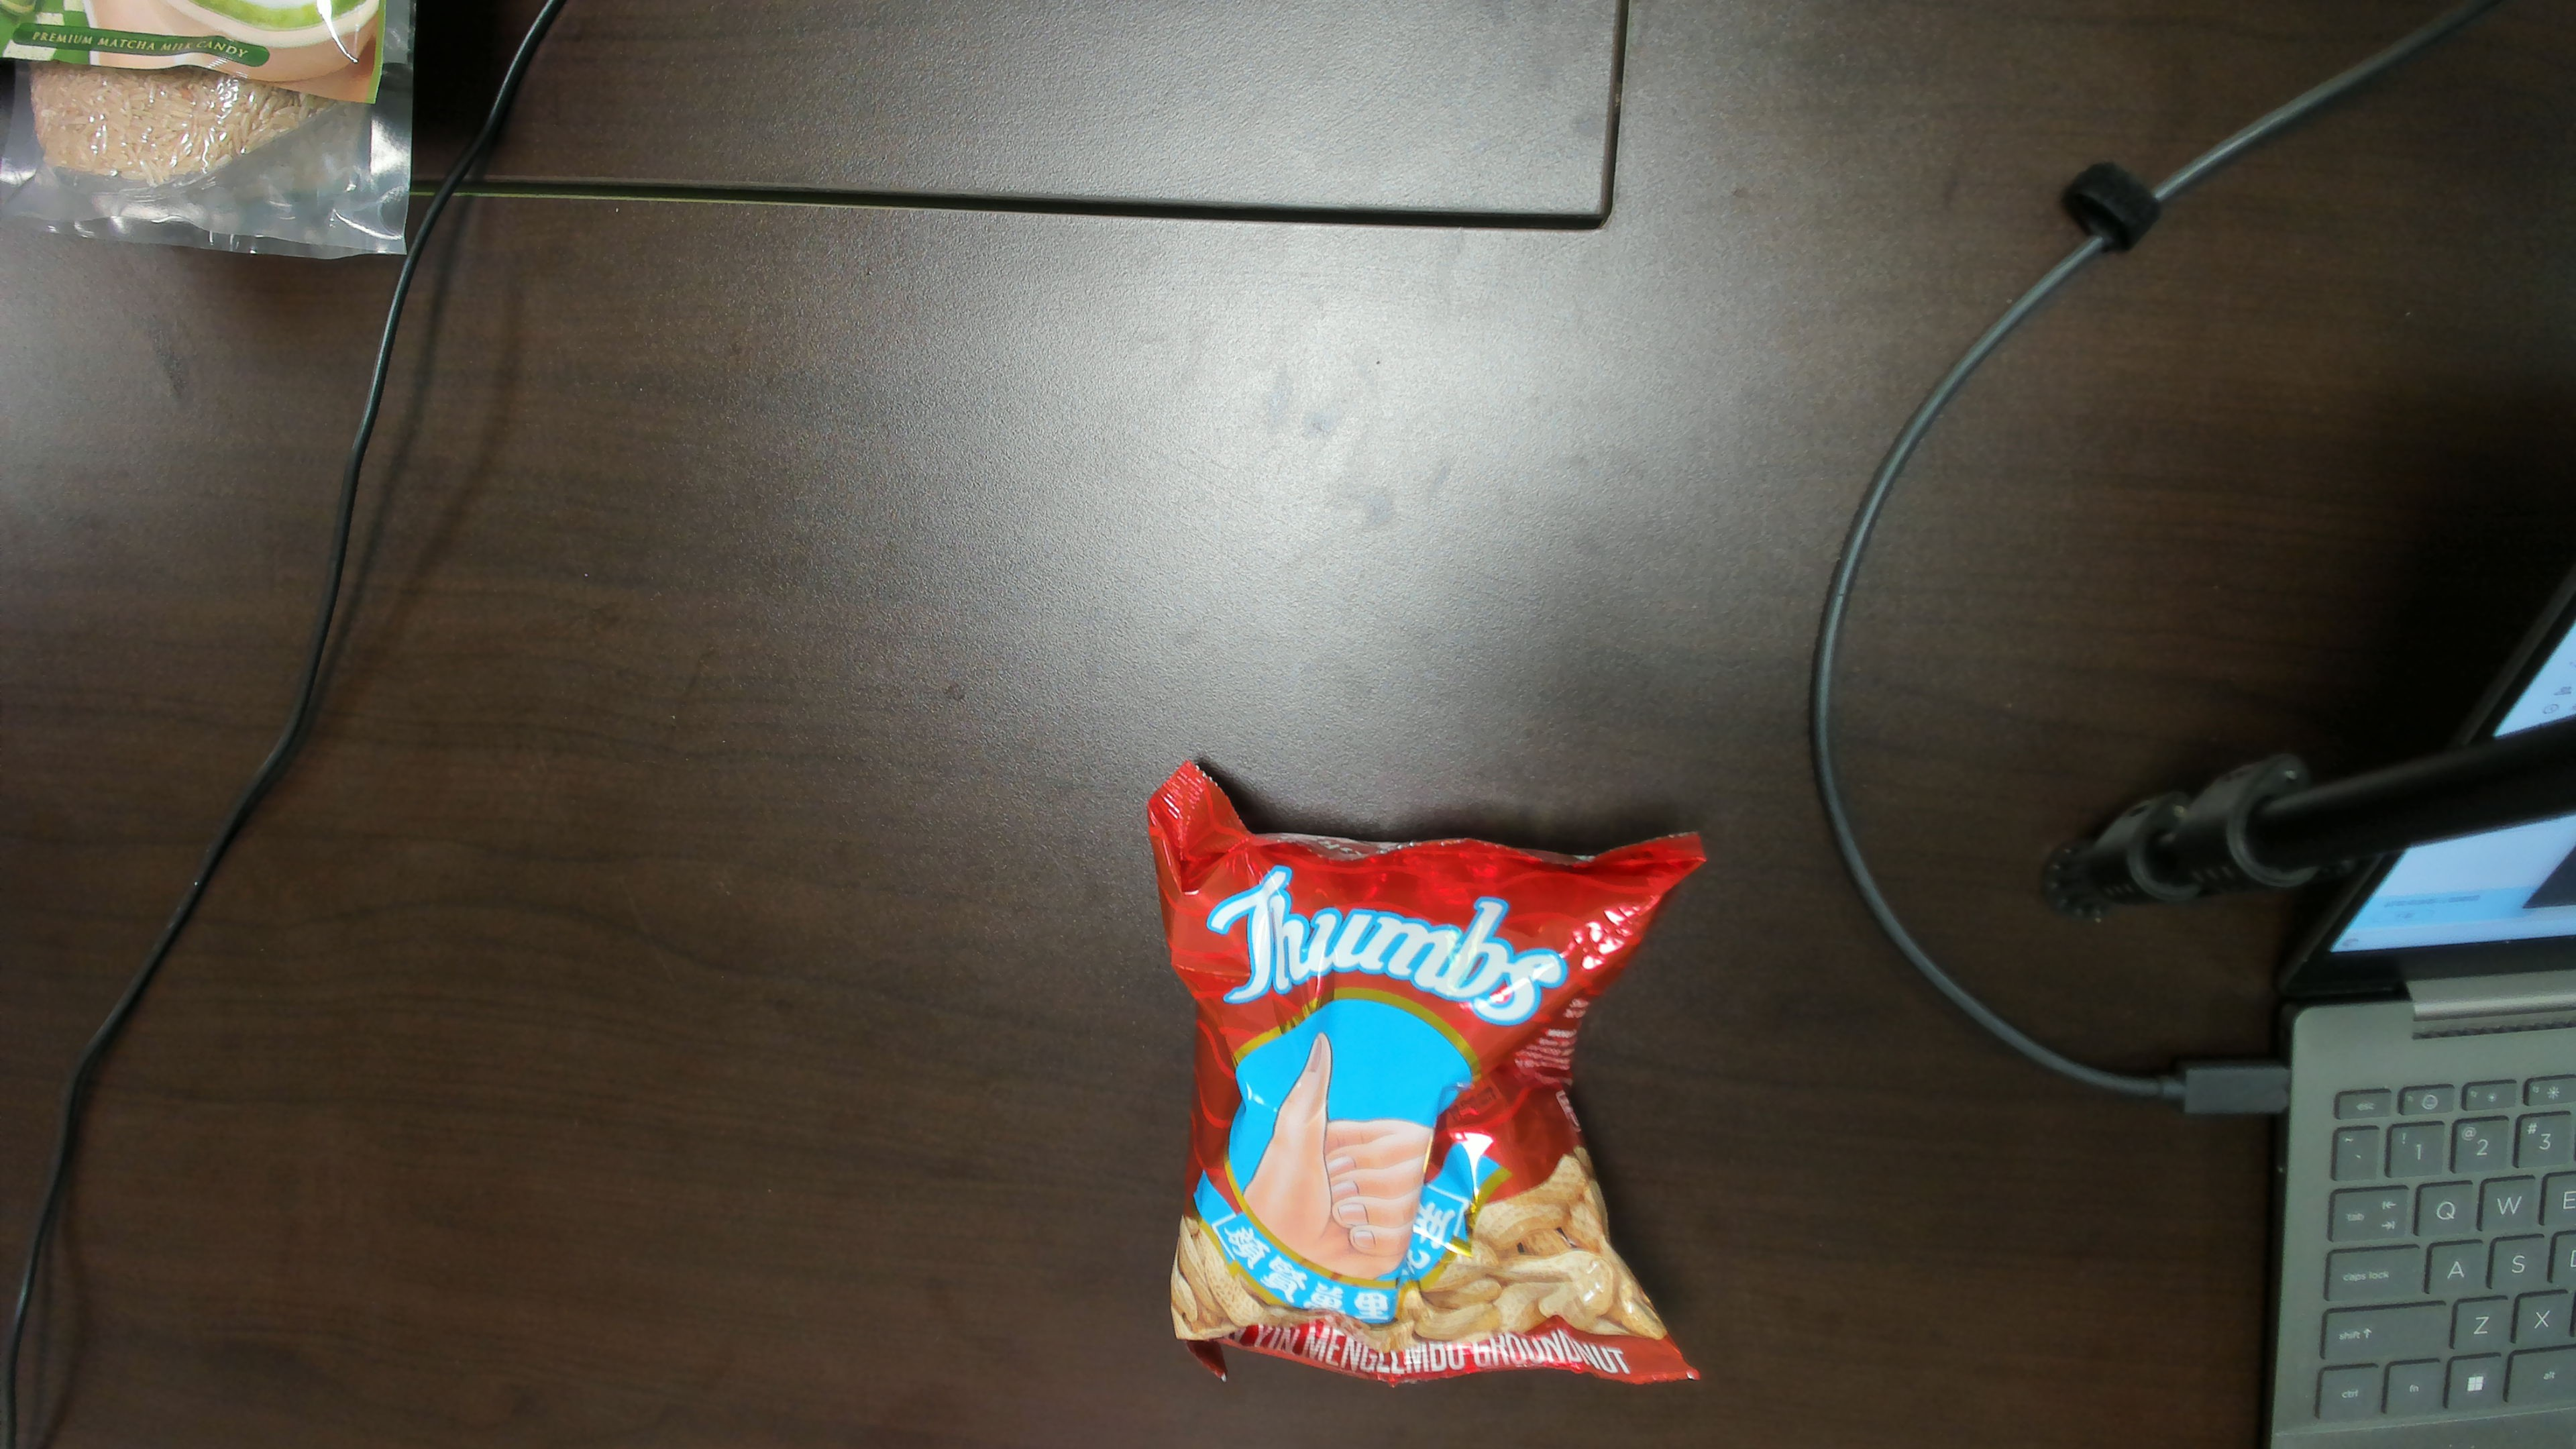Nuts_100-199g_Halal_NonHealthy: (1194, 872, 1576, 1353)
